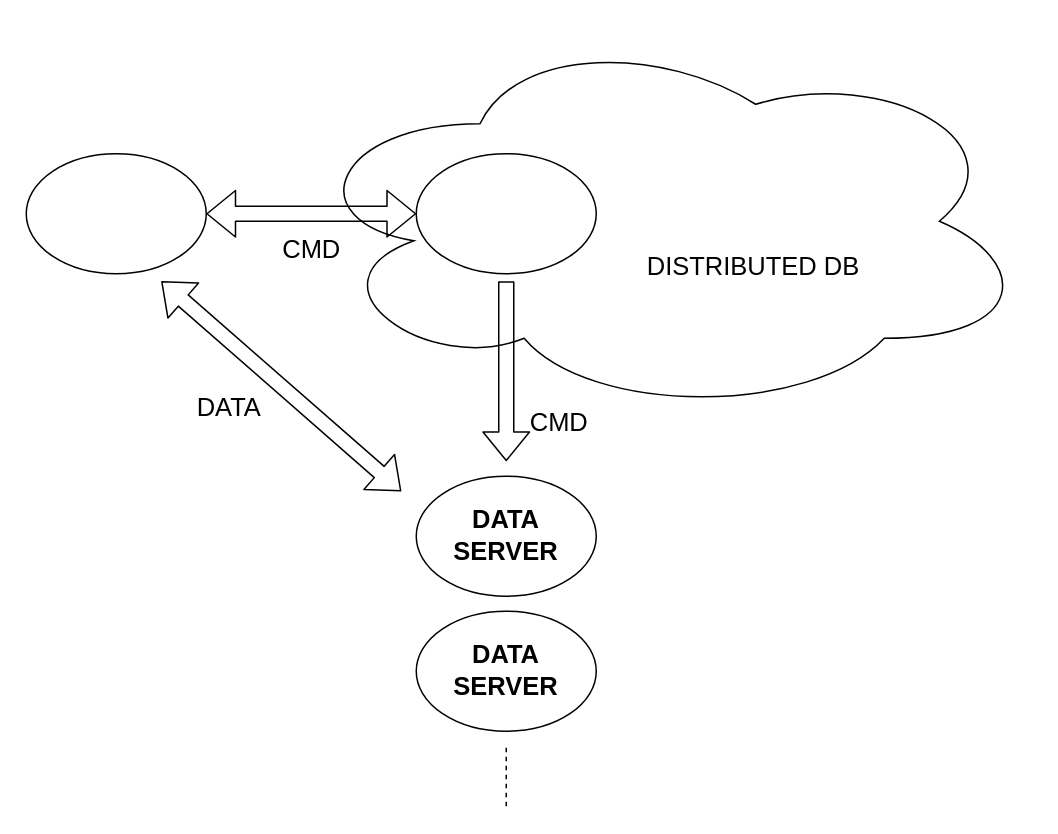
Some shapes in this 1058 by 834 pixel diagram are drawn without their labels. Each missing label, with the centre of its shape:
"CLIENT" belongs at pixel 115 213.
"META SERVER" belongs at pixel 505 213.
